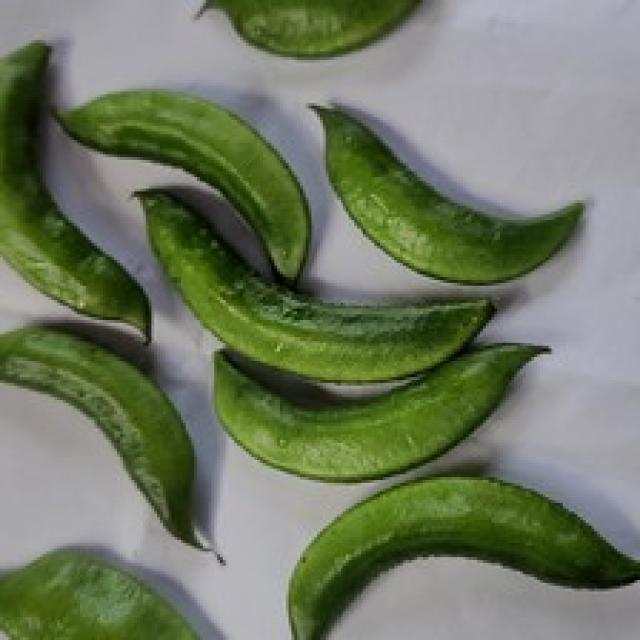Bean: (0, 34, 637, 637), (129, 183, 494, 383), (286, 472, 637, 637), (0, 320, 223, 563), (48, 85, 312, 288), (306, 100, 586, 283), (212, 340, 552, 483), (0, 37, 151, 342), (0, 545, 231, 637), (188, 0, 432, 57)
